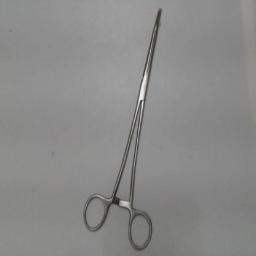Lahey Forceps: (78, 4, 166, 254)
